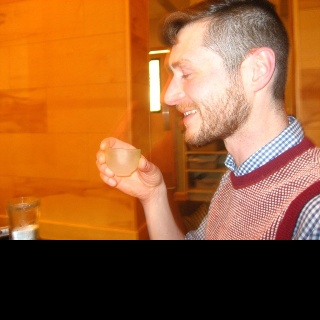without_mask: (164, 26, 248, 146)
